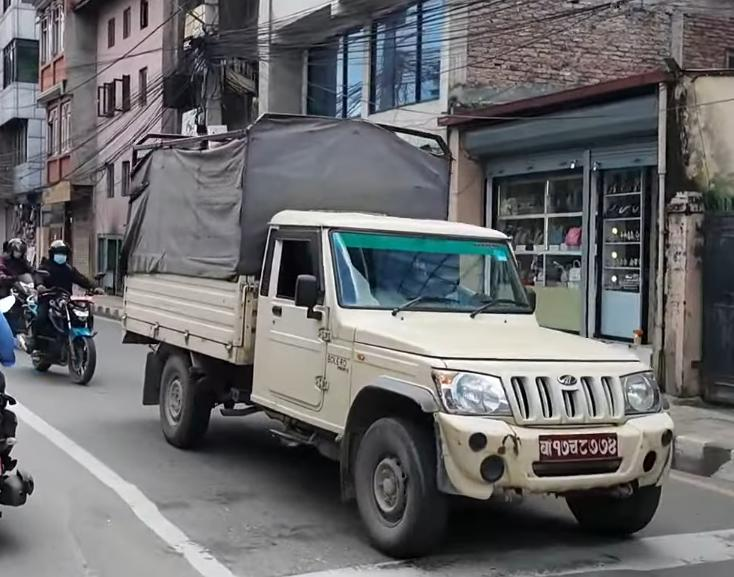bike: (19, 233, 105, 393)
transport_vehicle: (122, 110, 678, 552)
